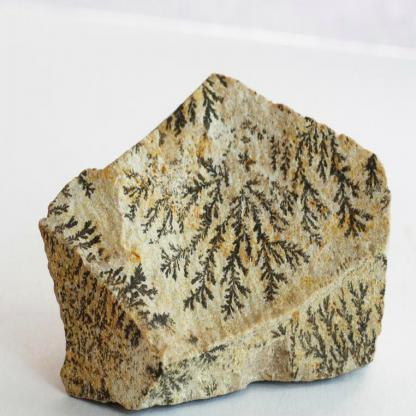Sedimentary_Limestone: (35, 66, 404, 410)
